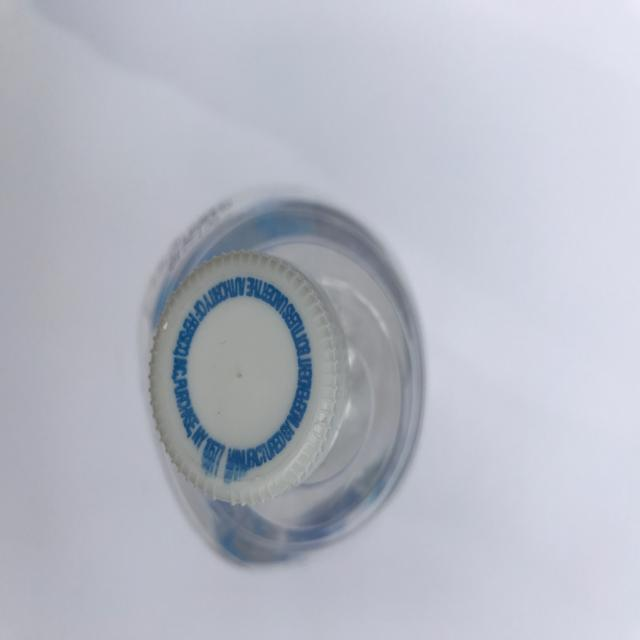plastic: (140, 184, 427, 576)
